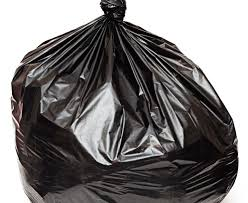Trash: (1, 1, 247, 200)
